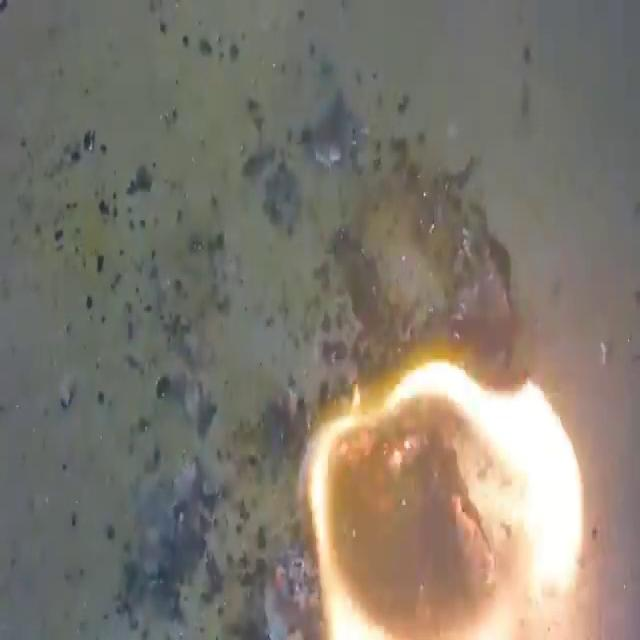Fire: (298, 352, 587, 638)
